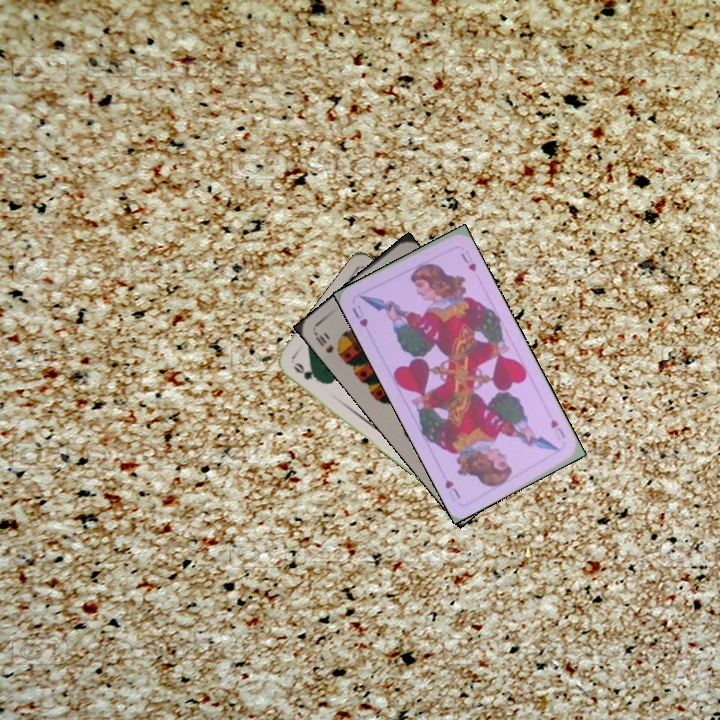GO: (289, 358, 325, 386)
HU: (348, 301, 371, 330), (546, 415, 568, 443)
S10: (311, 329, 344, 360)
